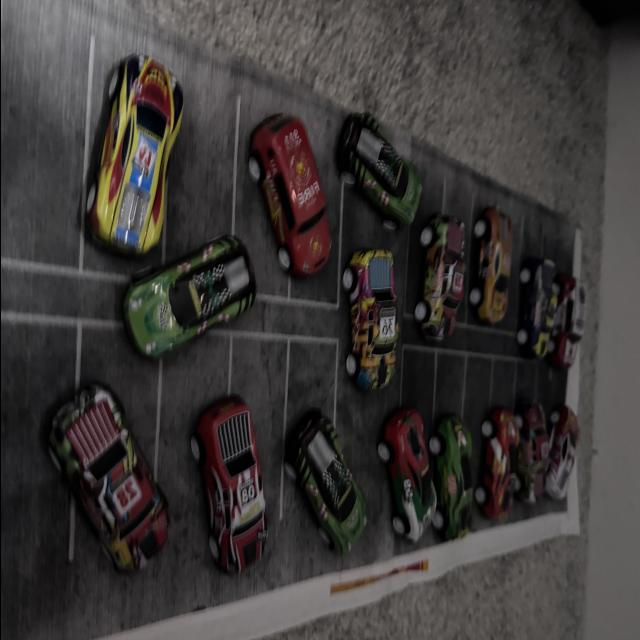car: (58, 0, 196, 256), (64, 385, 178, 571), (240, 81, 336, 294), (124, 227, 258, 357), (316, 74, 425, 226), (197, 401, 271, 607), (292, 386, 374, 556), (326, 246, 401, 398), (410, 194, 482, 344), (415, 348, 468, 548), (384, 388, 434, 562), (519, 253, 564, 406), (540, 401, 580, 538), (480, 390, 506, 564), (503, 398, 543, 510), (548, 264, 588, 375), (481, 220, 518, 334)
